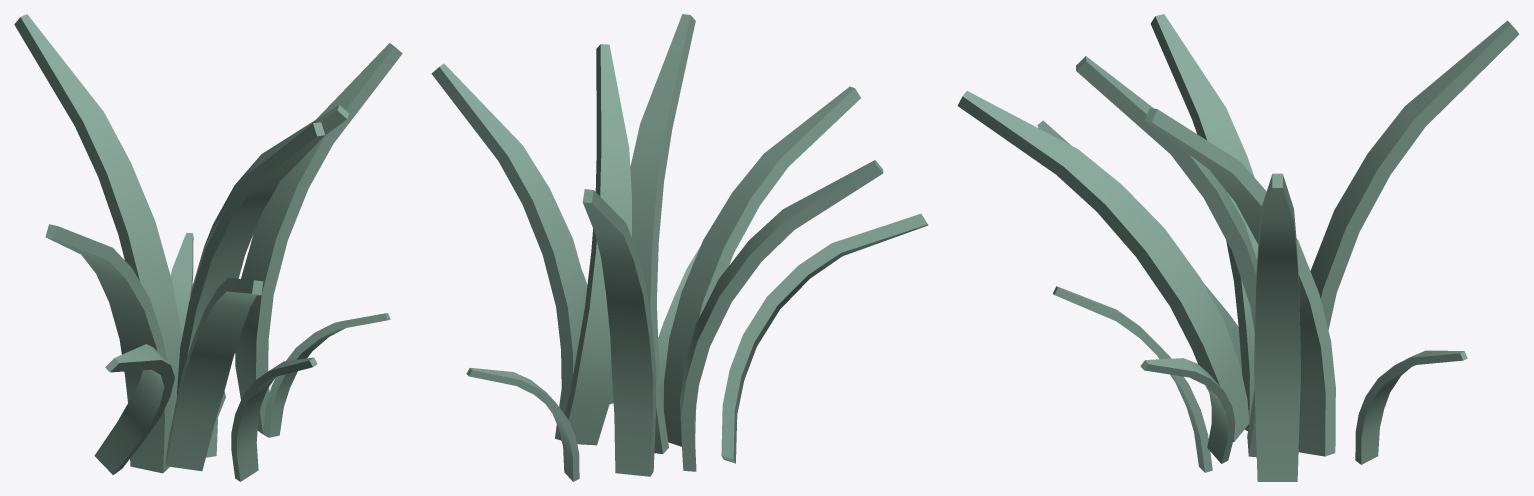
The model's file is SM_GrassTuft1.fbx.
3 renders of one model, left to right at view 1: azimuth 30°, elevation 25°; view 2: azimuth 150°, elevation 25°; view 3: azimuth 270°, elevation 25°, orthographic. The views are drawn at different scales.
Visible parts, largest first — view 1: GrassTuft1; view 2: GrassTuft1; view 3: GrassTuft1.
Part boxes in pixels (x1,y1,x2,y2): GrassTuft1: [14, 14, 402, 481]; GrassTuft1: [431, 14, 928, 481]; GrassTuft1: [957, 14, 1519, 481].
Bounding box in the file's own units: 24.13 × 22.06 × 26.68.
